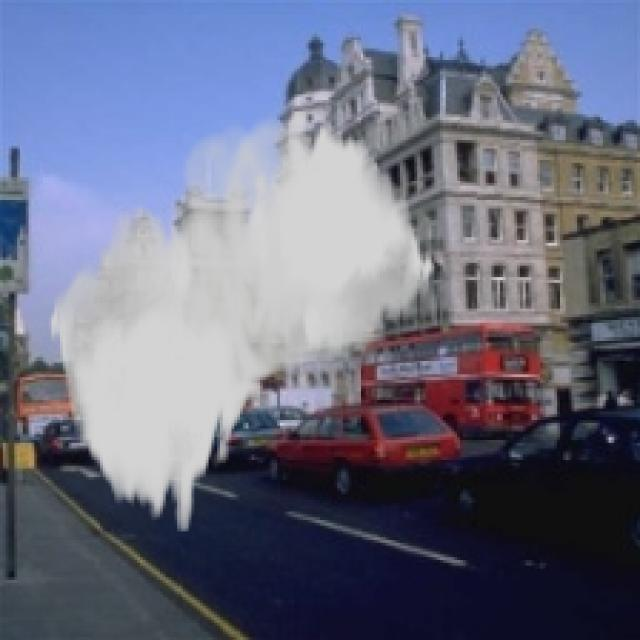smoke: (49, 109, 437, 532)
